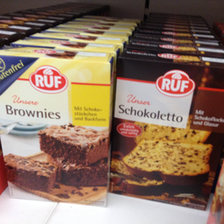cake: (2, 46, 116, 209), (110, 49, 224, 211)
